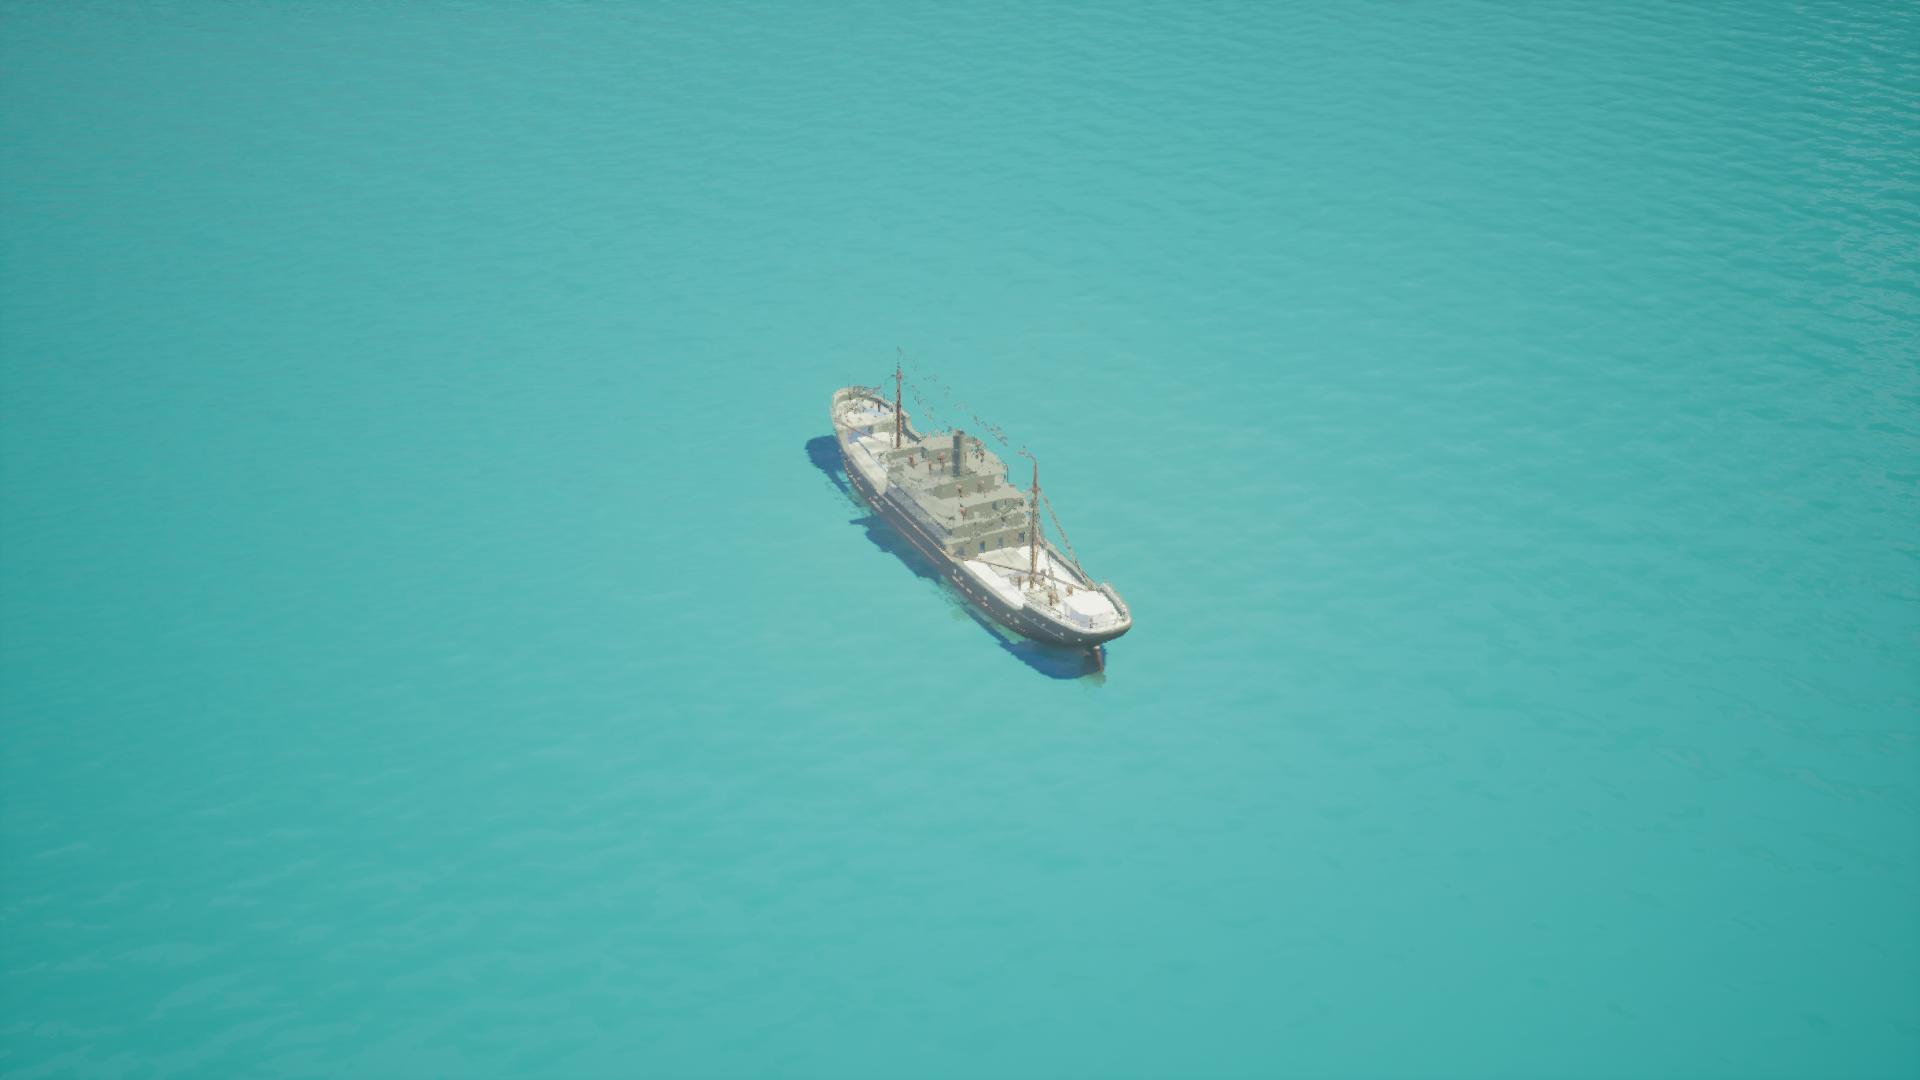Fishing Boat: (800, 360, 1130, 679)
